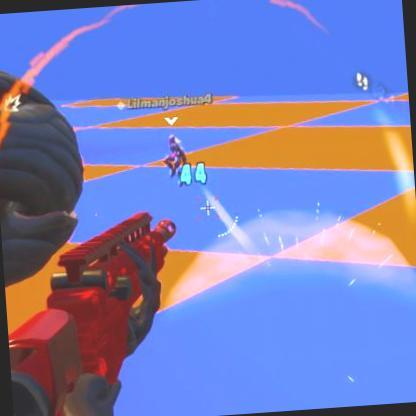person: (165, 130, 180, 173)
